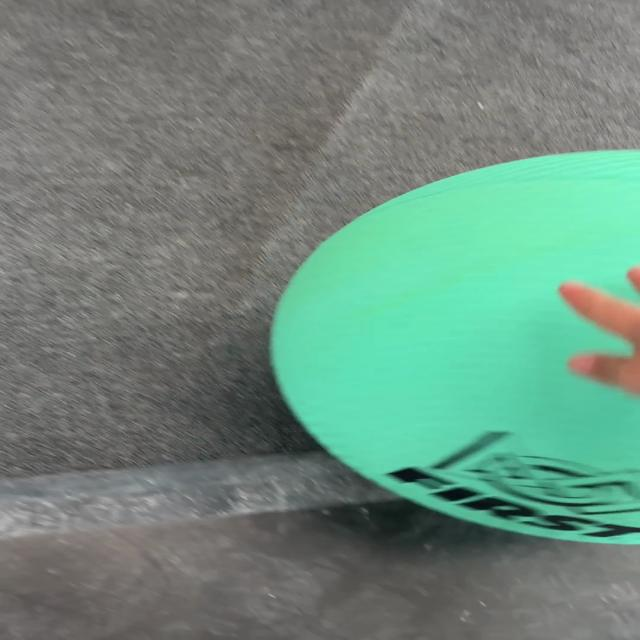Algae: (268, 148, 638, 545)
